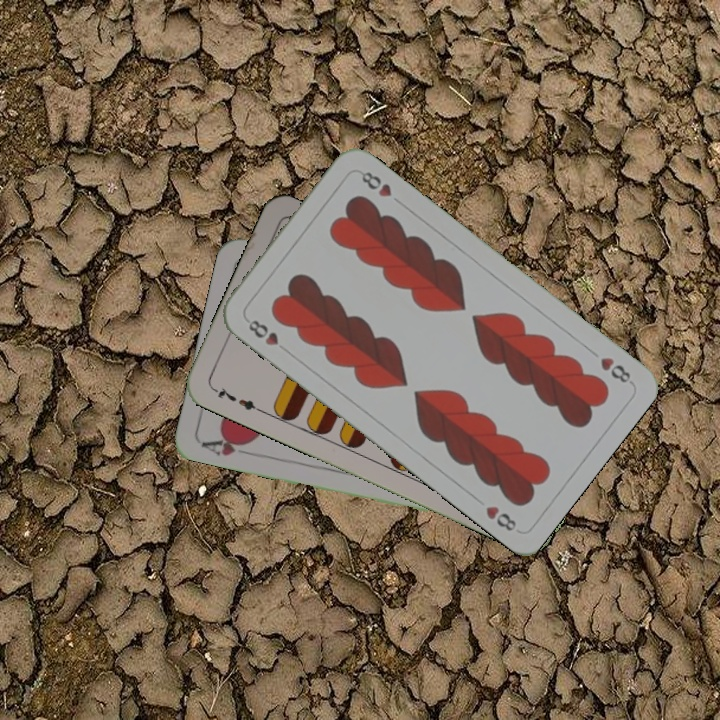E7: (208, 383, 264, 415)
H8: (244, 315, 282, 349), (596, 353, 635, 386)
HA: (198, 431, 256, 459)
